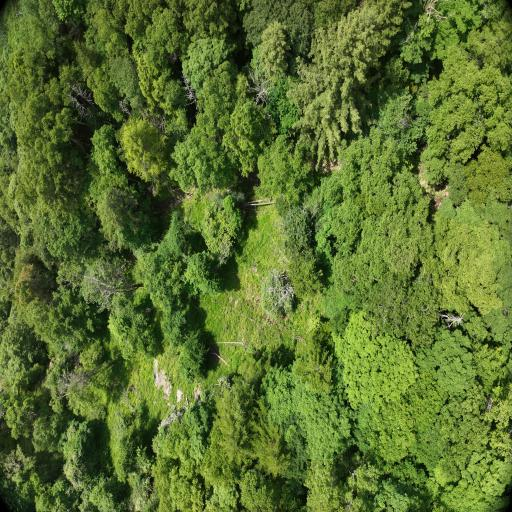dead-tree: (60, 258, 142, 306), (55, 353, 121, 399), (241, 58, 277, 114), (64, 80, 100, 123), (179, 72, 201, 116), (435, 303, 465, 330), (118, 101, 132, 117)
